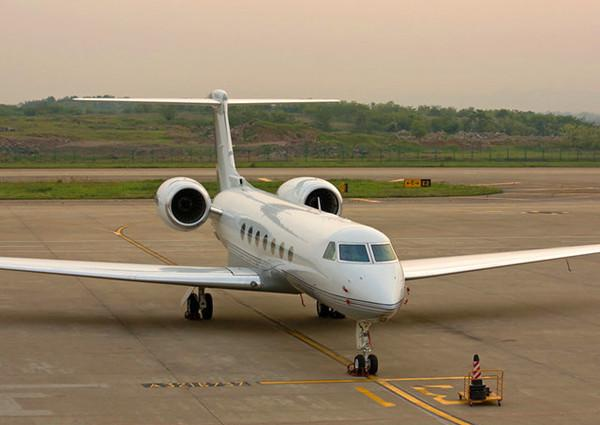airplane: (6, 90, 596, 363)
